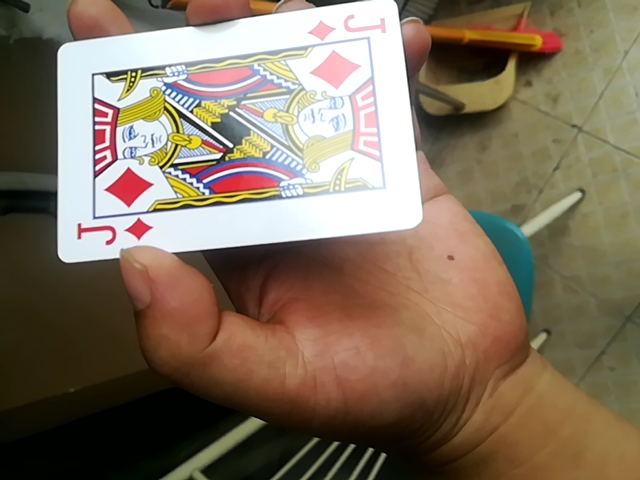fk j: (52, 0, 425, 270)
